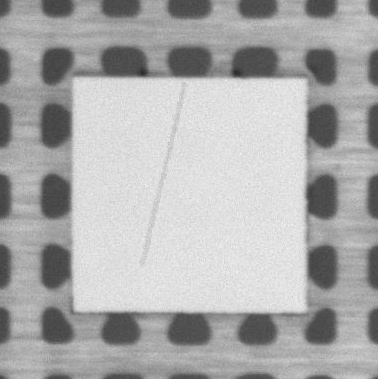DIE_CRACK: (142, 84, 185, 266)
